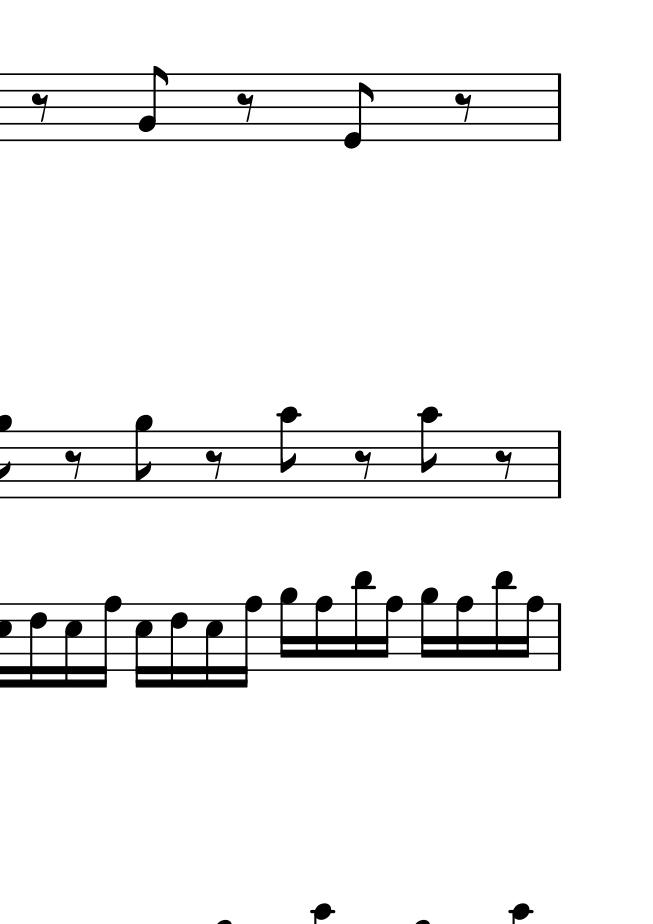16_11: (350, 568, 375, 673), (491, 568, 515, 673)
16_5: (61, 601, 83, 690), (202, 601, 224, 690), (133, 602, 154, 690)
16_6: (168, 600, 189, 690), (27, 601, 48, 689)
16_8: (92, 595, 123, 689), (233, 594, 263, 690), (377, 595, 403, 673), (519, 594, 545, 672), (312, 594, 334, 673), (453, 594, 475, 673)
16_9: (418, 585, 440, 673), (277, 585, 298, 674)
8_0: (342, 73, 375, 151)
8_10: (417, 407, 442, 500), (277, 406, 301, 501)
8_2: (136, 65, 169, 142)
8_9: (133, 415, 153, 500)
Rests8: (452, 91, 476, 124), (29, 91, 52, 124), (235, 91, 258, 124), (493, 448, 516, 481), (63, 448, 85, 482), (204, 448, 225, 481), (353, 448, 374, 481)
Single_barline: (551, 74, 567, 140), (552, 431, 567, 498), (552, 603, 567, 670)
